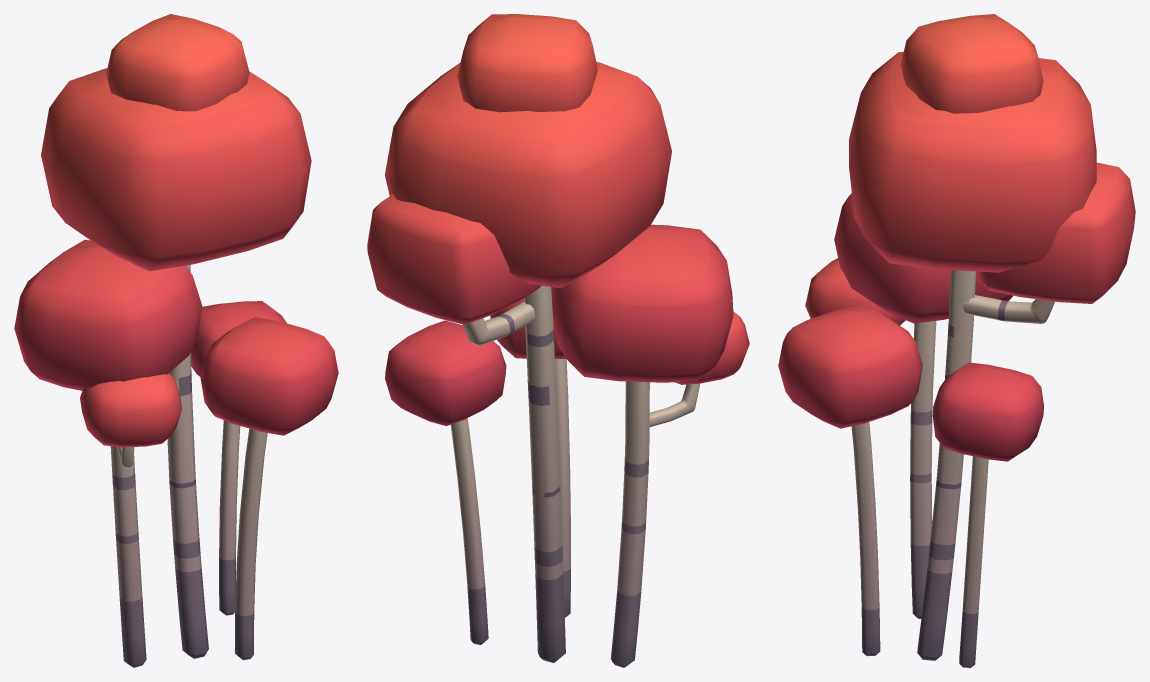
The model's file is birch_tree_SC_07.fbx.
3 renders of one model, left to right at view 1: azimuth 30°, elevation 25°; view 2: azimuth 150°, elevation 25°; view 3: azimuth 270°, elevation 25°, orthographic. The views are drawn at different scales.
Parts seen in each view (by area): view 1: birch_tree_SC_07; view 2: birch_tree_SC_07; view 3: birch_tree_SC_07.
Part boxes in pixels (<box>): birch_tree_SC_07: <box>14,14,338,667</box>; birch_tree_SC_07: <box>367,14,749,667</box>; birch_tree_SC_07: <box>778,14,1135,667</box>.
Bounding box in the file's own units: 332 × 677 × 347.
1 material, 1 textured.
